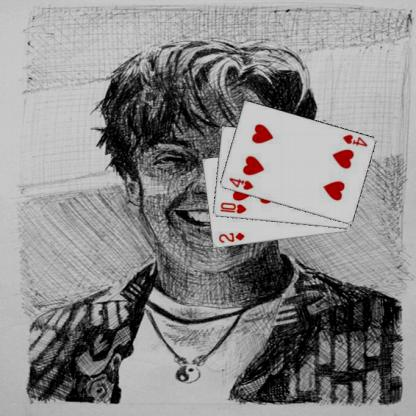10H: (217, 200, 247, 215)
2D: (216, 230, 245, 244)
4H: (226, 175, 254, 192), (340, 132, 368, 148)
